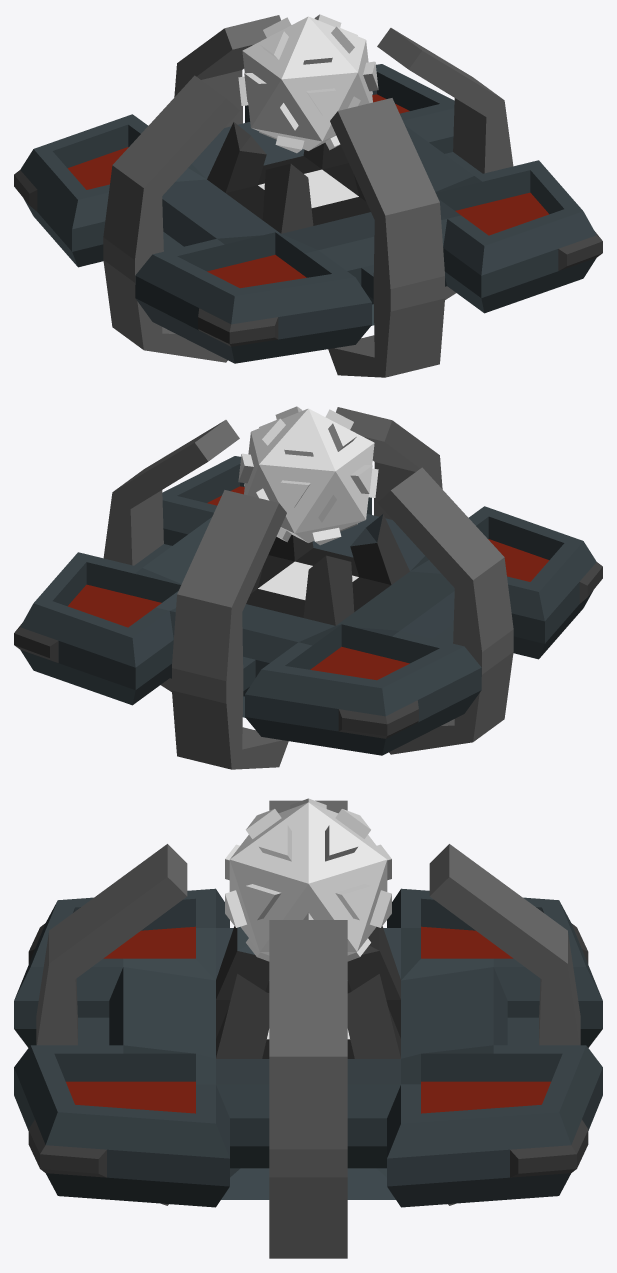
The model's file is Thunder-01.fbx.
The picture shows the model from 3 angles, top to bottom: view 1: azimuth 30°, elevation 25°; view 2: azimuth 150°, elevation 25°; view 3: azimuth 270°, elevation 25°; orthographic projection. The views are drawn at different scales.
Visible parts, largest first — view 1: Cube, Icosphere; view 2: Cube, Icosphere; view 3: Cube, Icosphere.
Boxes of the visible parts, x1,y1,x2,y2 form: Cube: (14,15,602,377); Icosphere: (238,14,378,153); Cube: (14,407,602,769); Icosphere: (238,406,378,545); Cube: (14,800,602,1258); Icosphere: (225,798,391,961).
Bounding box in the file's own units: 636 × 461 × 636.
Materials: 1 (1 with a texture image).
